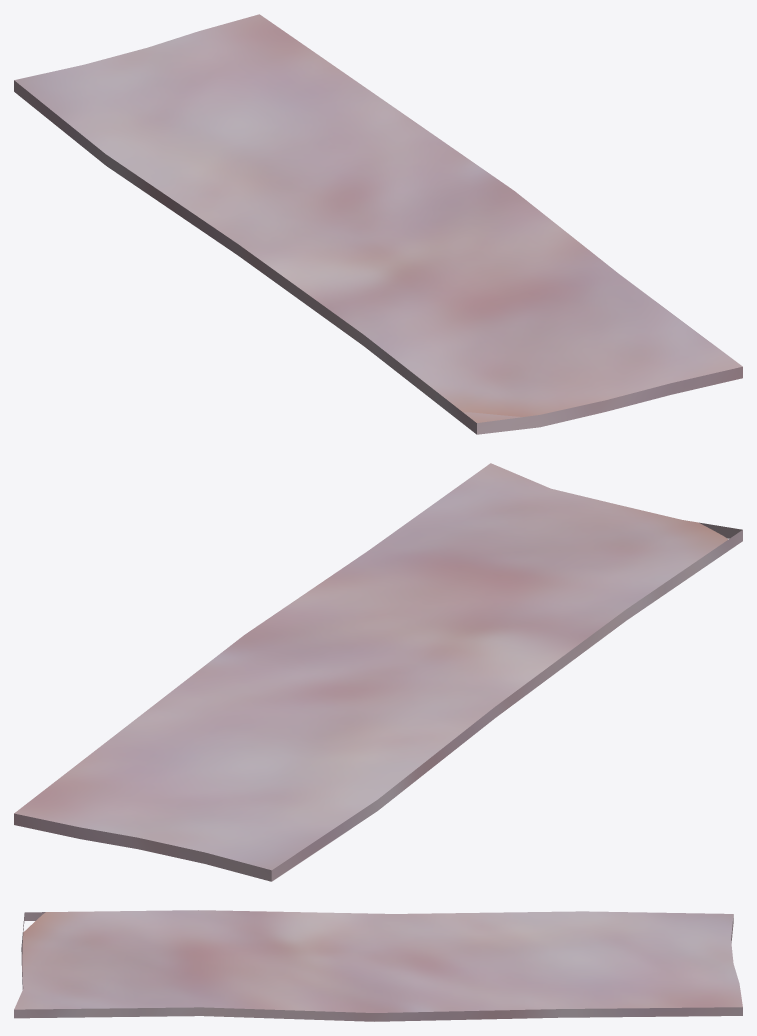
Rendered from SM_PizzaTopping_Ham.fbx.
3 renders of one model, top to bottom at view 1: azimuth 30°, elevation 25°; view 2: azimuth 150°, elevation 25°; view 3: azimuth 270°, elevation 25°, orthographic. The views are drawn at different scales.
Visible parts, largest first — view 1: SM_PizzaTopping_Ham; view 2: SM_PizzaTopping_Ham; view 3: SM_PizzaTopping_Ham.
Boxes of the visible parts, left/top/right/bottom form: SM_PizzaTopping_Ham: left=14, top=14, right=742, bottom=434; SM_PizzaTopping_Ham: left=14, top=463, right=742, bottom=881; SM_PizzaTopping_Ham: left=14, top=910, right=742, bottom=1021.
Size of the model in its own units: 1.77 by 0.1469 by 5.43.
